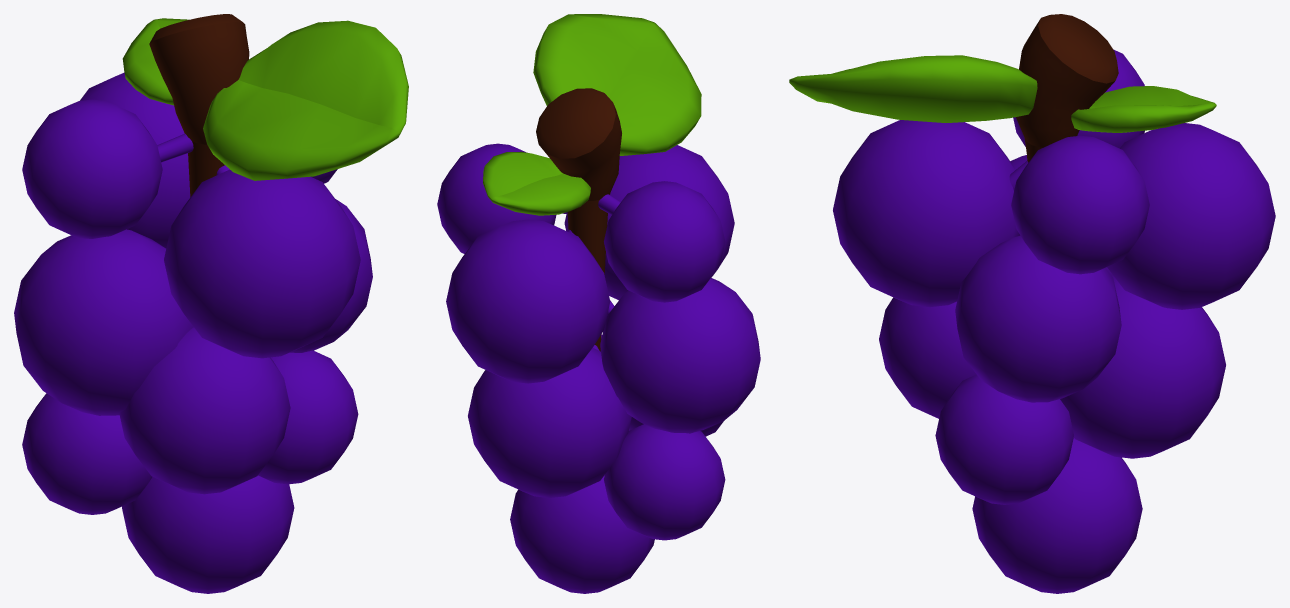
File: Grape.fbx
3 renders of one model, left to right at view 1: azimuth 30°, elevation 25°; view 2: azimuth 150°, elevation 25°; view 3: azimuth 270°, elevation 25°, orthographic. The views are drawn at different scales.
Parts seen in each view (by area): view 1: Grape_V1_00; view 2: Grape_V1_00; view 3: Grape_V1_00.
Boxes of the visible parts, bbox=[...] form: Grape_V1_00: bbox=[14, 14, 408, 593]; Grape_V1_00: bbox=[437, 14, 760, 593]; Grape_V1_00: bbox=[789, 14, 1275, 593].
Size of the model in its own units: 185 by 304 by 235.
